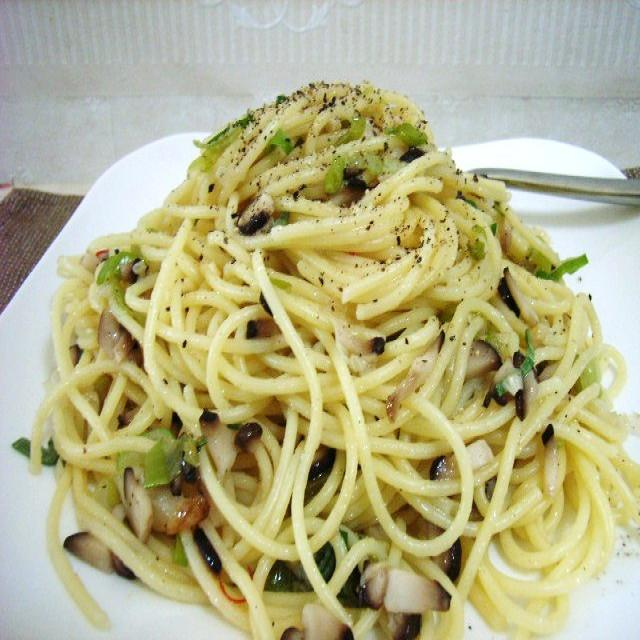Pasta: (49, 64, 611, 606)
